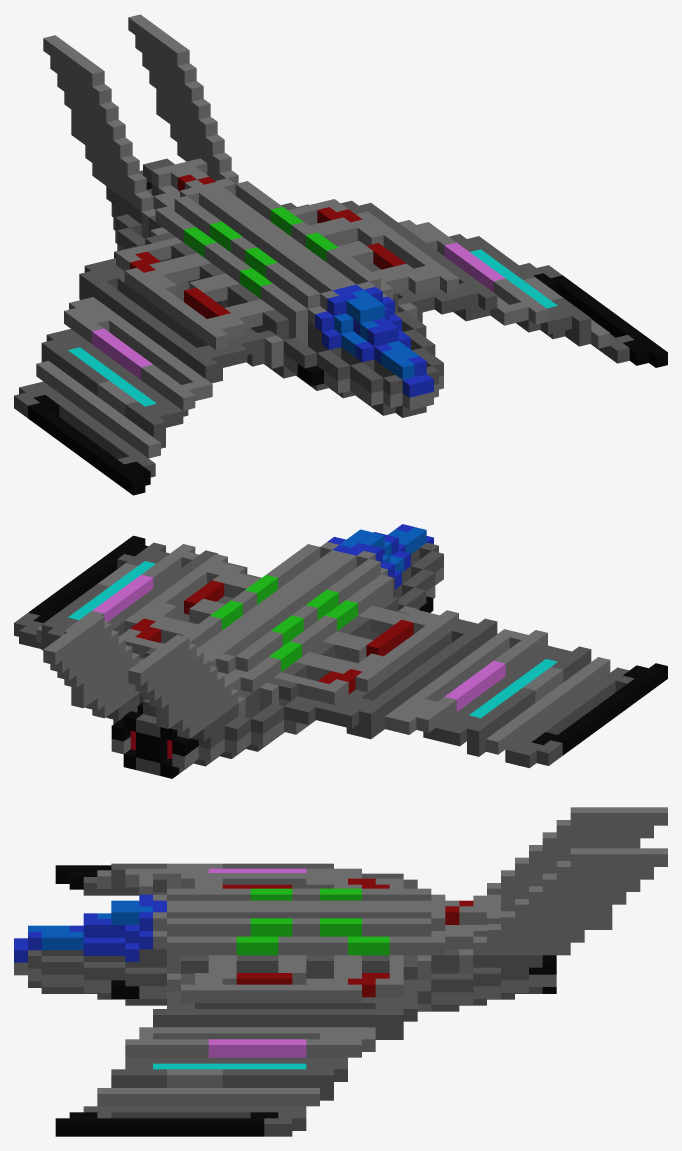
The model's file is Enemy1.fbx.
The picture shows the model from 3 angles, top to bottom: view 1: azimuth 30°, elevation 25°; view 2: azimuth 150°, elevation 25°; view 3: azimuth 270°, elevation 25°; orthographic projection.
Parts seen in each view (by area): view 1: Matrix; view 2: Matrix; view 3: Matrix.
Boxes of the visible parts, bbox=[...] form: Matrix: bbox=[14, 14, 667, 495]; Matrix: bbox=[14, 524, 667, 778]; Matrix: bbox=[14, 807, 667, 1136].
Size of the model in its own units: 44 by 14 by 47.
